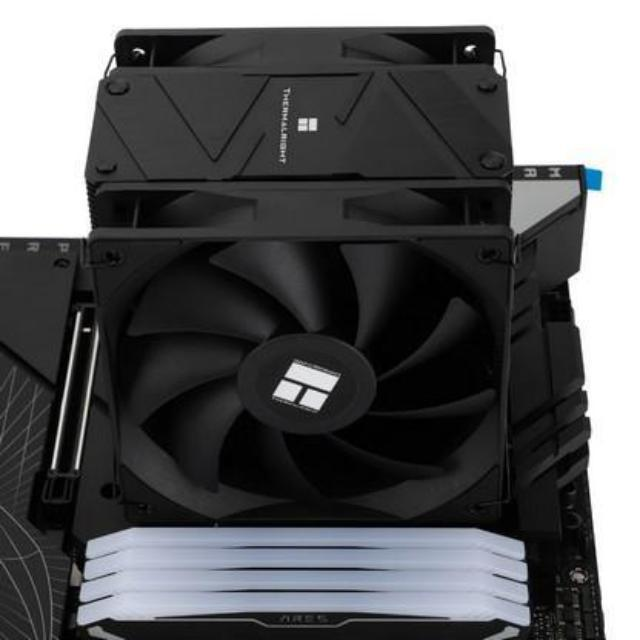CPU_Fan: (85, 26, 517, 523)
